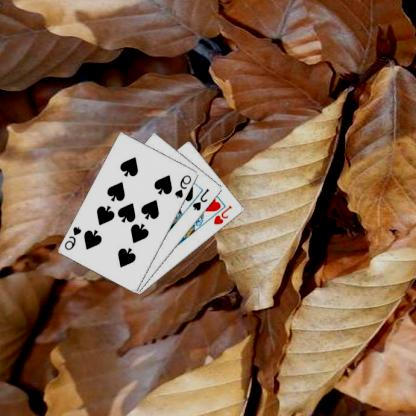9S: (174, 172, 195, 199), (64, 224, 84, 251)
JH: (213, 203, 235, 226)
JS: (192, 186, 212, 212)
